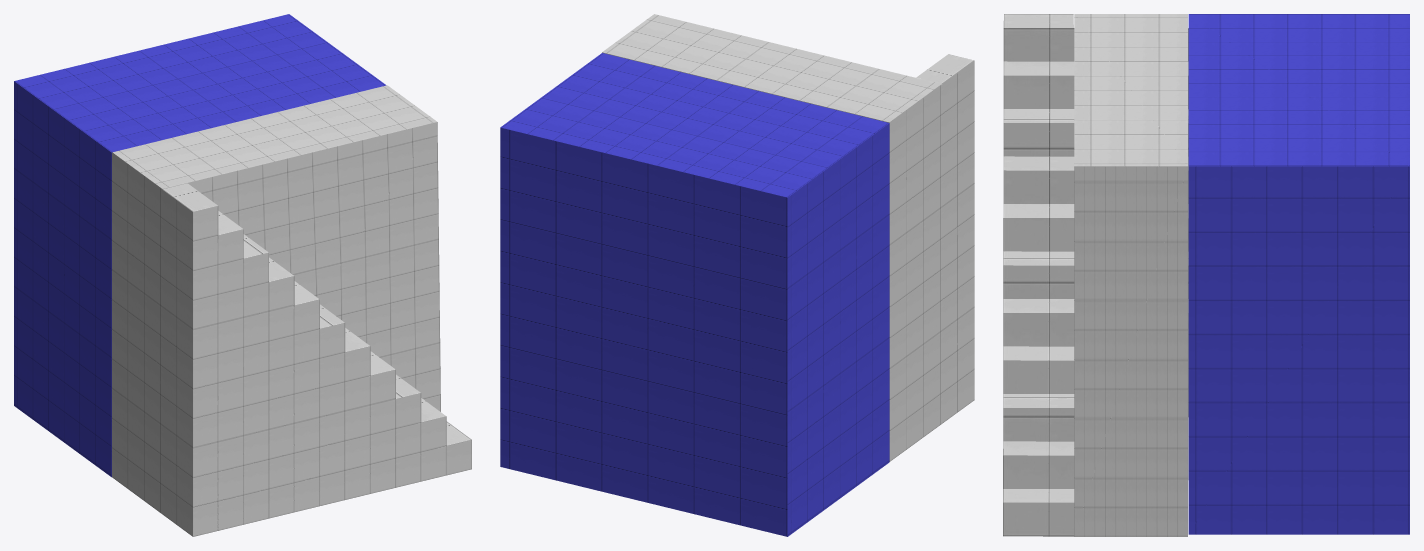
Rendered from stairs2.glb.
3 renders of one model, left to right at view 1: azimuth 30°, elevation 25°; view 2: azimuth 150°, elevation 25°; view 3: azimuth 270°, elevation 25°, orthographic. The views are drawn at different scales.
Parts seen in each view (by area): view 1: StraightStair001; view 2: StraightStair001; view 3: StraightStair001.
Part boxes in pixels (x1=…): StraightStair001: x1=14, y1=14, x2=471, y2=536; StraightStair001: x1=500, y1=14, x2=974, y2=536; StraightStair001: x1=1003, y1=14, x2=1409, y2=536.
Size of the model in its own units: 6.64 by 7.38 by 7.38.
Materials: 4 (4 with a texture image).
